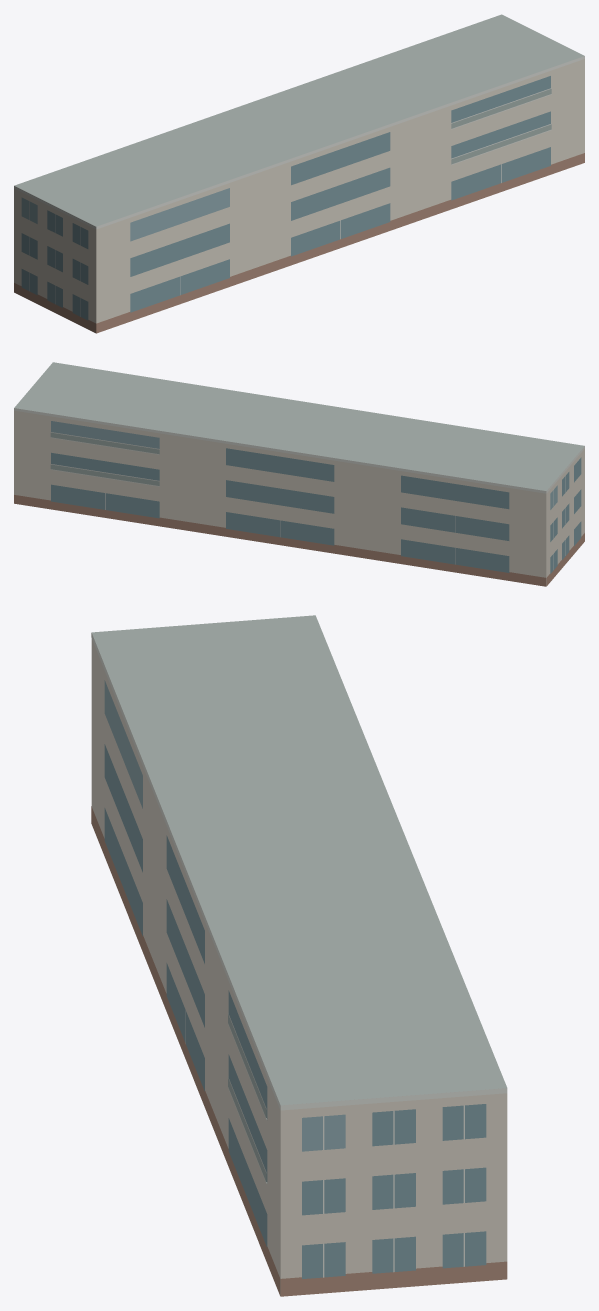
Rendered from survey-upis-32753546.glb.
3 renders of one model, top to bottom at view 1: azimuth 30°, elevation 25°; view 2: azimuth 150°, elevation 25°; view 3: azimuth 270°, elevation 25°, orthographic. The views are drawn at different scales.
Visible parts, largest first — view 1: survey-upis-32753546.tmp; view 2: survey-upis-32753546.tmp; view 3: survey-upis-32753546.tmp.
Boxes of the visible parts, x1,y1,x2,y2 form: survey-upis-32753546.tmp: (14, 14, 584, 333); survey-upis-32753546.tmp: (14, 362, 584, 586); survey-upis-32753546.tmp: (91, 615, 507, 1296).
Bounding box in the file's own units: 50.3 × 9.15 × 18.04.
